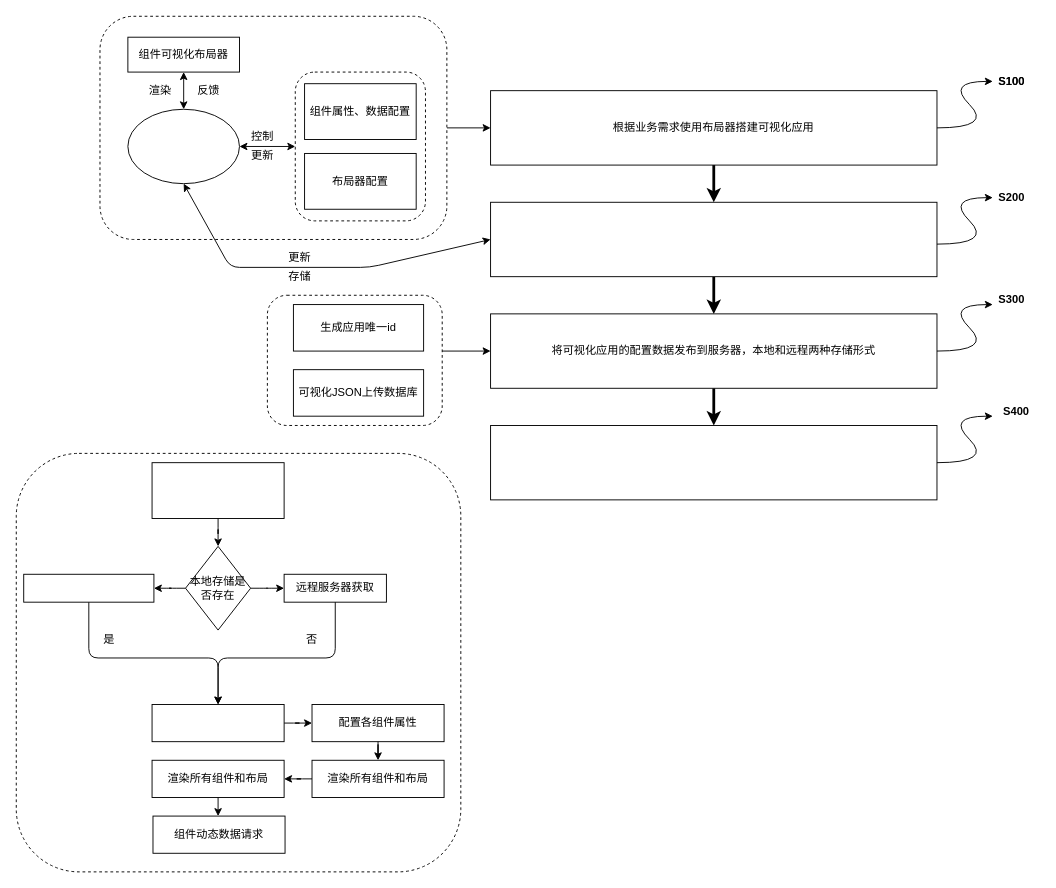
Image size: 1056x888. Some labels were removed from this diagram. The shapes that lost their labels are listed below. From the top down, each one's centre as x and y in pixels, then its label:
the point at 183,146: pinia状态管理
the point at 713,239: 可视化配置存储到sessionStorage，存储临时可视化的 配置
the point at 713,462: 所有组件基于本地JSON或者远程JSON配置数据进行可视化应用渲染
the point at 217,490: 根据唯一id获取JSON可视化配置数据
the point at 88,587: 本地浏览器sessionStorage获取
the point at 217,723: 动态注册图表组件
